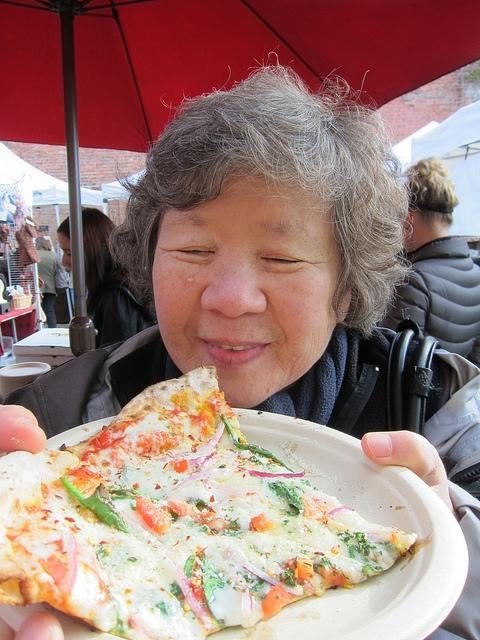tomato: (136, 497, 172, 534), (261, 584, 292, 620), (318, 566, 346, 590), (294, 556, 315, 584), (251, 513, 273, 532), (206, 518, 234, 532), (168, 500, 190, 516), (174, 459, 189, 474), (158, 507, 171, 518)
